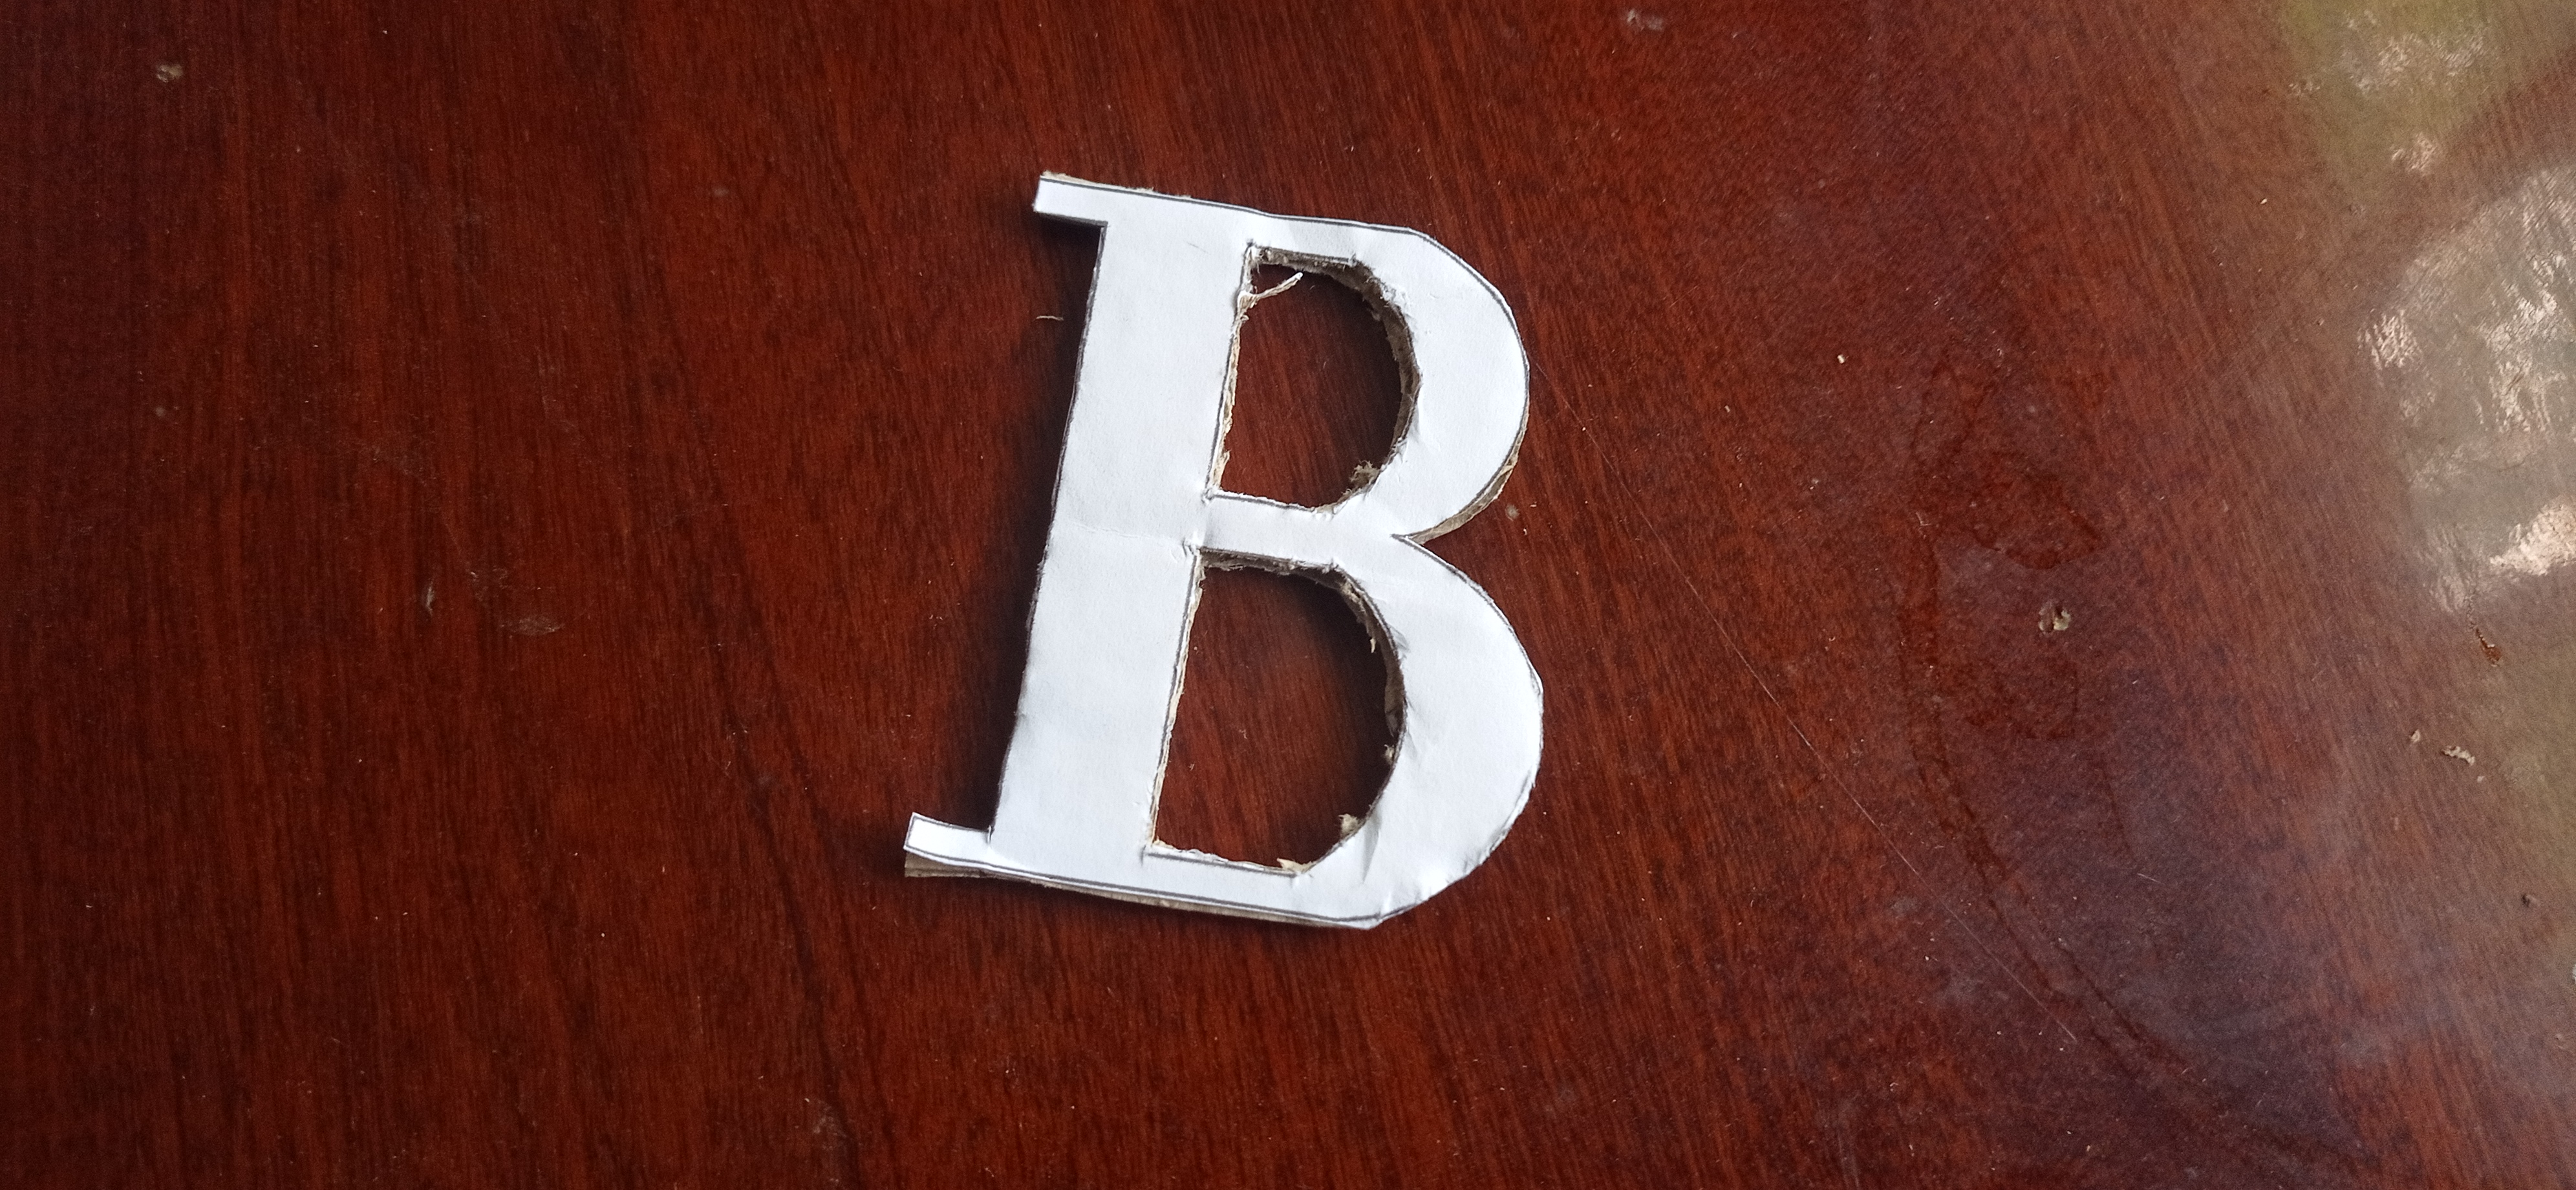v: (889, 168, 1548, 940)
